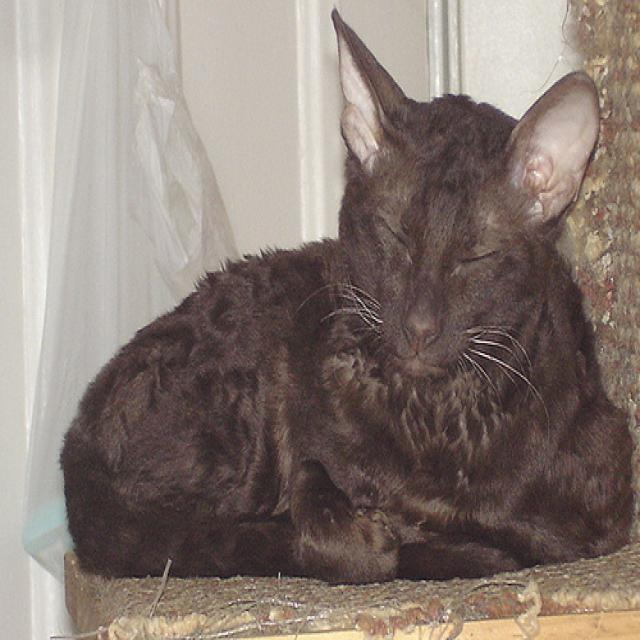left eye: (457, 241, 502, 268)
